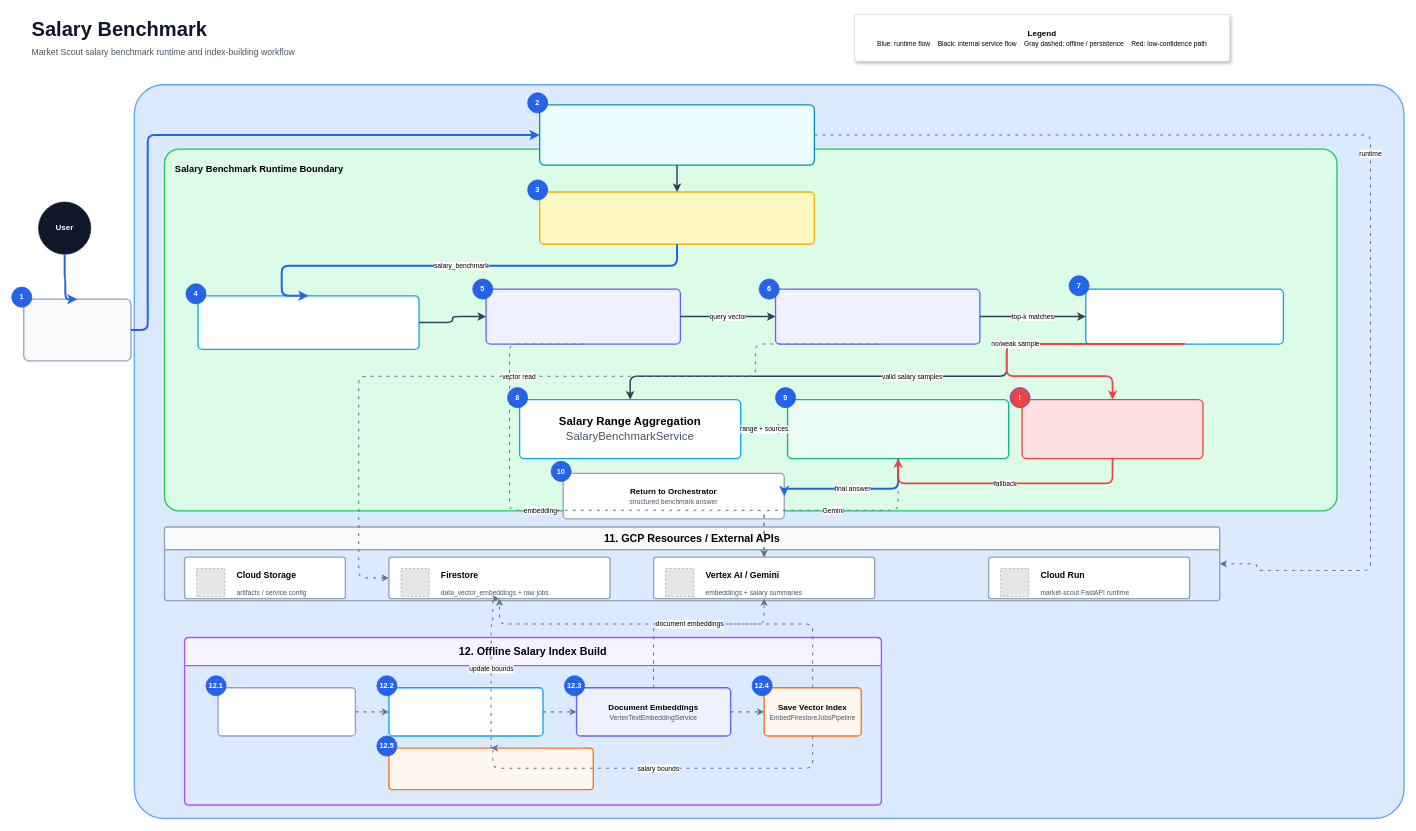
Image size: 1416x831. Some labels were removed from this diagram. Grey dashed boxes stand in for pictures. Each missing label, with the centre of its shape:
"Build Embedding Text JobEmbeddingTextService" belongs at point (465, 711).
"Estimate Salary Bounds EstimateSalaryBoundsPipeline" belongs at point (491, 768).
"Low Confidence Response no salary sample or weak matches" belongs at point (1112, 429).
"Market Scout API MarketScoutAgent on Cloud Run" belongs at point (677, 134).
"Query Embedding VertexTextEmbeddingService" belongs at point (583, 316).
"Raw Job Salary Data CareerViet crawled postings" belongs at point (286, 711).
"Route to Salary Benchmark intent=salary_benchmark" belongs at point (677, 218).
"Salary Answer Summary SalarySummaryService + Gemini" belongs at point (898, 429).
"Salary Match Filtering salary + location + experience filters" belongs at point (1184, 316).
"Salary Query Parsing SalaryQueryNormalizer.extract" belongs at point (308, 322).
"Salary Vector Search SalaryVectorRepository(KNN search)" belongs at point (877, 316).
"User Interface Frontend Chat / Scanner UI" belongs at point (77, 329).
